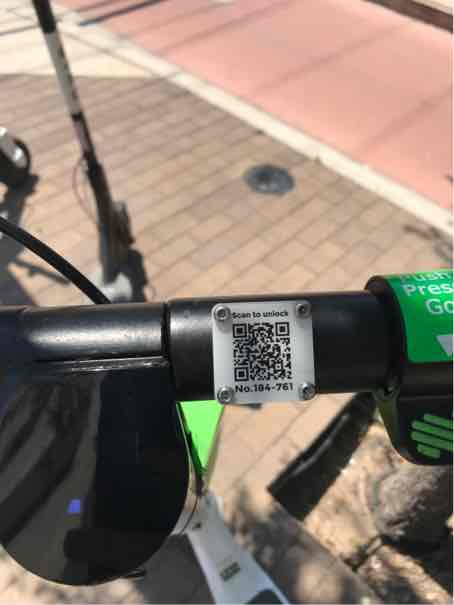scooter: (9, 96, 434, 605)
